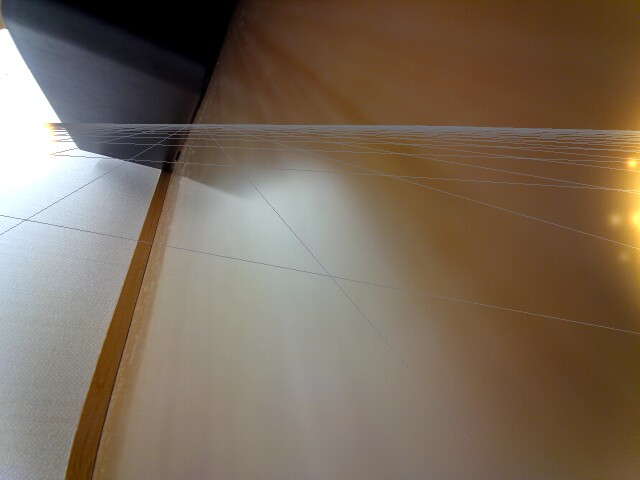firebig: (0, 70, 64, 217)
